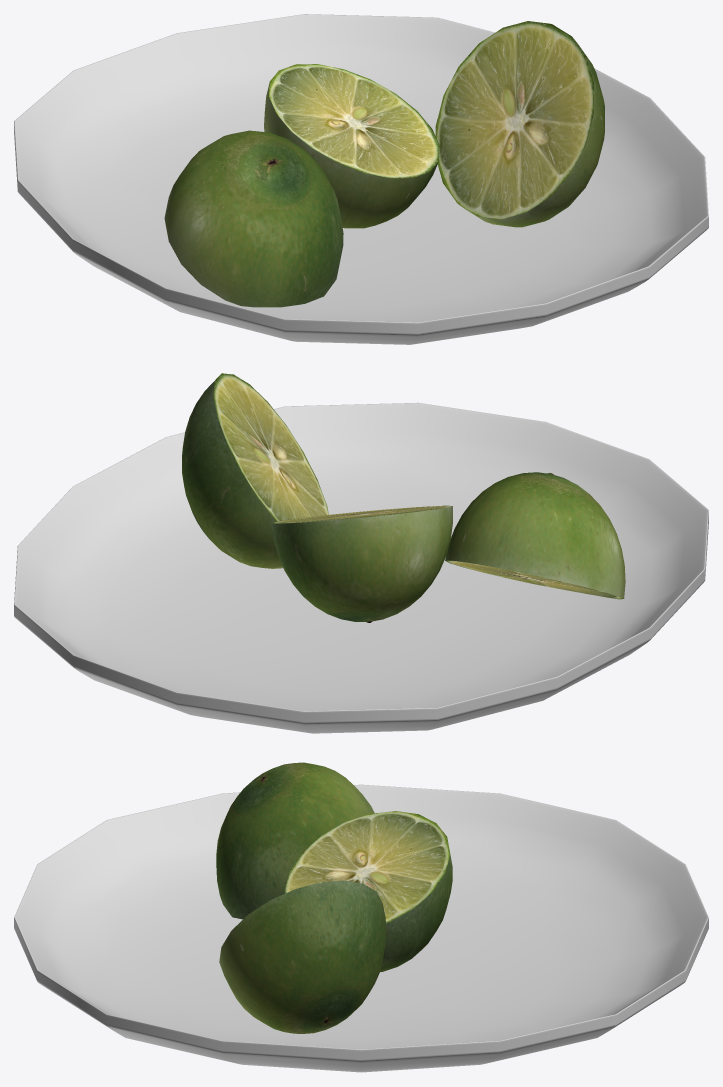
The model's file is Lemon_StudioRender_Ready.fbx.
3 views of the same model, one above another, from view 1: azimuth 30°, elevation 25°; view 2: azimuth 150°, elevation 25°; view 3: azimuth 270°, elevation 25° (orthographic). The views are drawn at different scales.
Parts seen in each view (by area): view 1: pCube1, polySurface5, polySurface4, polySurface2, polySurface1, polySurface3; view 2: pCube1, polySurface1, polySurface5, polySurface3, polySurface4, polySurface6, polySurface2; view 3: pCube1, polySurface3, polySurface5, polySurface2, polySurface1.
Part boxes in pixels (x1,y1,x2,y2): pCube1: [14, 14, 708, 344]; polySurface5: [164, 130, 343, 307]; polySurface4: [435, 21, 593, 219]; polySurface2: [269, 64, 439, 178]; polySurface1: [264, 83, 438, 228]; polySurface3: [459, 38, 604, 227]; pCube1: [14, 402, 708, 733]; polySurface1: [271, 506, 452, 622]; polySurface5: [445, 472, 625, 598]; polySurface3: [182, 377, 283, 568]; polySurface4: [213, 373, 328, 521]; polySurface6: [445, 560, 623, 599]; polySurface2: [272, 505, 452, 523]; pCube1: [14, 784, 708, 1072]; polySurface3: [219, 880, 386, 1033]; polySurface5: [216, 762, 374, 919]; polySurface2: [284, 811, 450, 923]; polySurface1: [380, 854, 452, 971].
Bounding box in the file's own units: 12.24 × 3.86 × 13.55.
